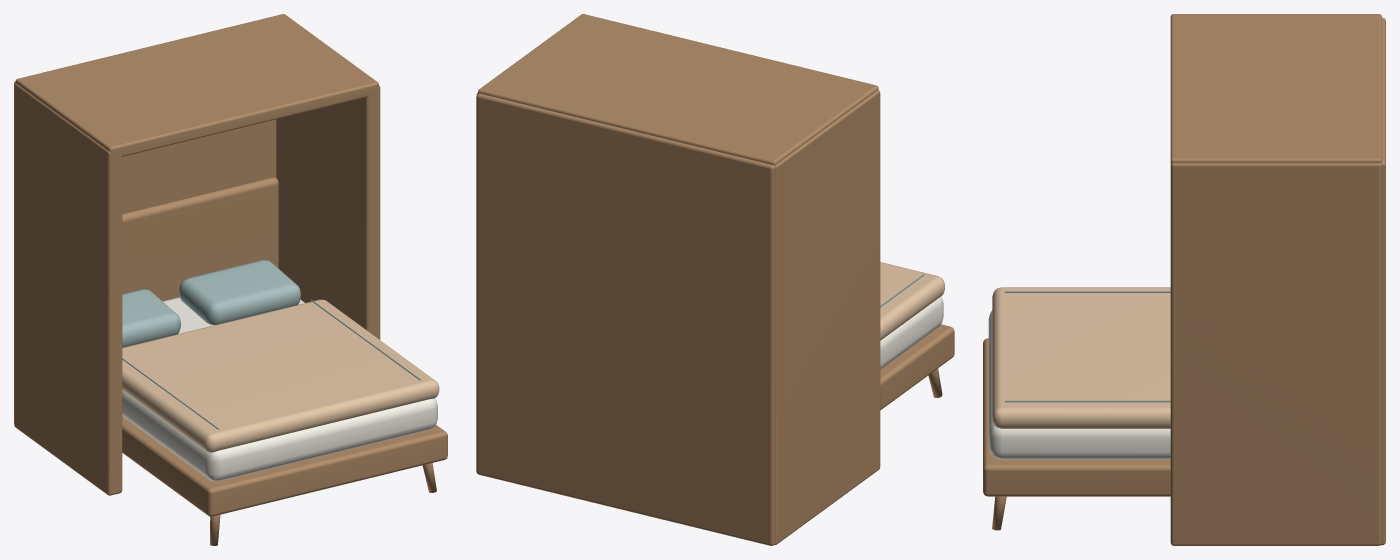
File: atelier-murphy-bed.glb
3 renders of one model, left to right at view 1: azimuth 30°, elevation 25°; view 2: azimuth 150°, elevation 25°; view 3: azimuth 270°, elevation 25°, orthographic. The views are drawn at different scales.
Parts seen in each view (by area): view 1: legs.035, bedding.012, ceramic.012, fabric.038; view 2: legs.035, bedding.012, ceramic.012; view 3: legs.035, bedding.012, ceramic.012, seams.037.
Boxes of the visible parts, left/top/right/bottom form: legs.035: left=14, top=14, right=447, bottom=545; bedding.012: left=122, top=299, right=439, bottom=452; ceramic.012: left=122, top=297, right=437, bottom=481; fabric.038: left=122, top=260, right=300, bottom=347; legs.035: left=476, top=14, right=954, bottom=545; bedding.012: left=880, top=262, right=944, bottom=340; ceramic.012: left=880, top=296, right=943, bottom=369; legs.035: left=983, top=14, right=1385, bottom=545; bedding.012: left=992, top=287, right=1170, bottom=428; ceramic.012: left=988, top=310, right=1170, bottom=459; seams.037: left=1005, top=291, right=1170, bottom=402.
Size of the model in its own units: 1.82 by 2.22 by 2.1.
